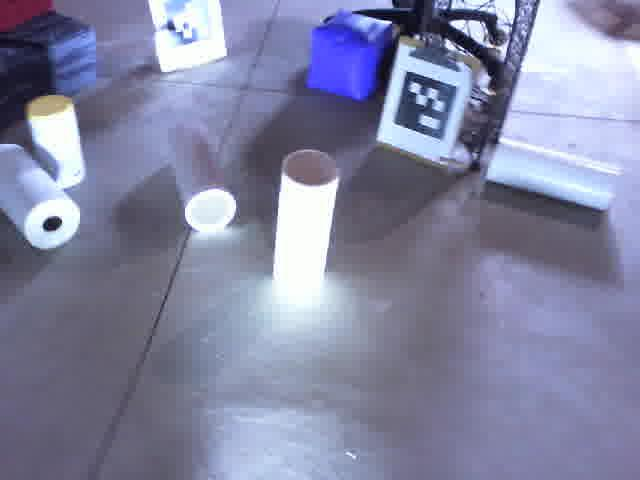coral: (264, 142, 355, 294), (160, 121, 242, 240), (22, 90, 87, 190)
